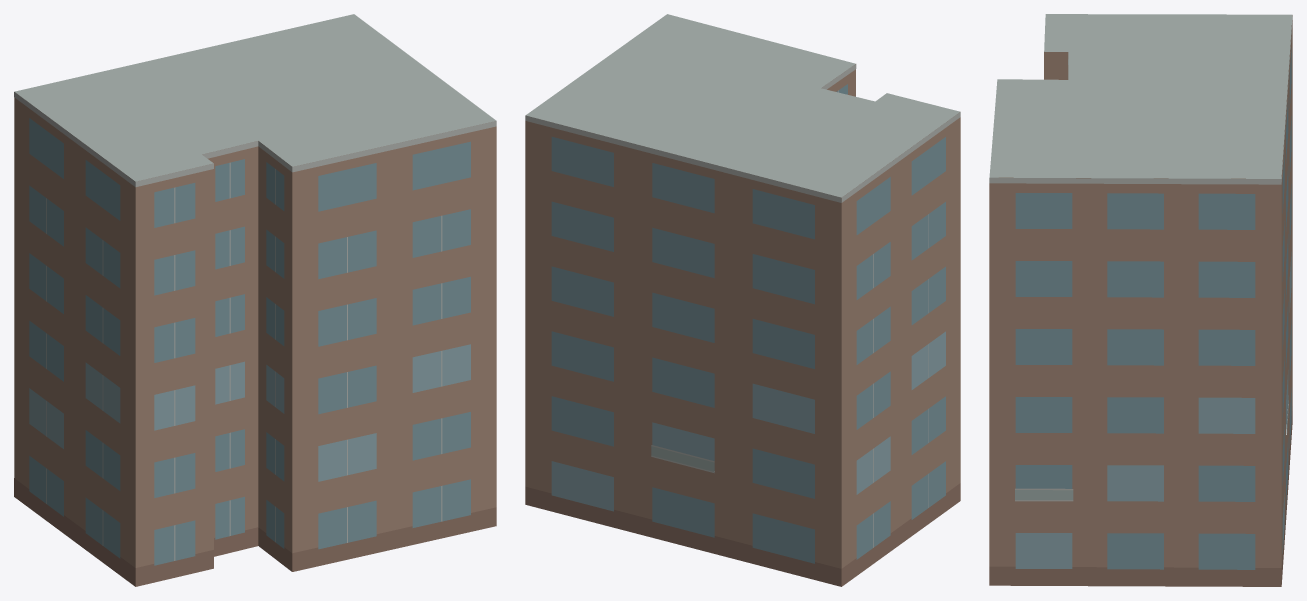
Rendered from survey-upis-32824655.glb.
3 renders of one model, left to right at view 1: azimuth 30°, elevation 25°; view 2: azimuth 150°, elevation 25°; view 3: azimuth 270°, elevation 25°, orthographic. The views are drawn at different scales.
Parts seen in each view (by area): view 1: survey-upis-32824655.tmp; view 2: survey-upis-32824655.tmp; view 3: survey-upis-32824655.tmp.
Boxes of the visible parts, x1=… form: survey-upis-32824655.tmp: x1=14, y1=14, x2=496, y2=586; survey-upis-32824655.tmp: x1=525, y1=14, x2=960, y2=586; survey-upis-32824655.tmp: x1=989, y1=14, x2=1292, y2=586.
Size of the model in its own units: 15.31 by 17.65 by 11.89.
